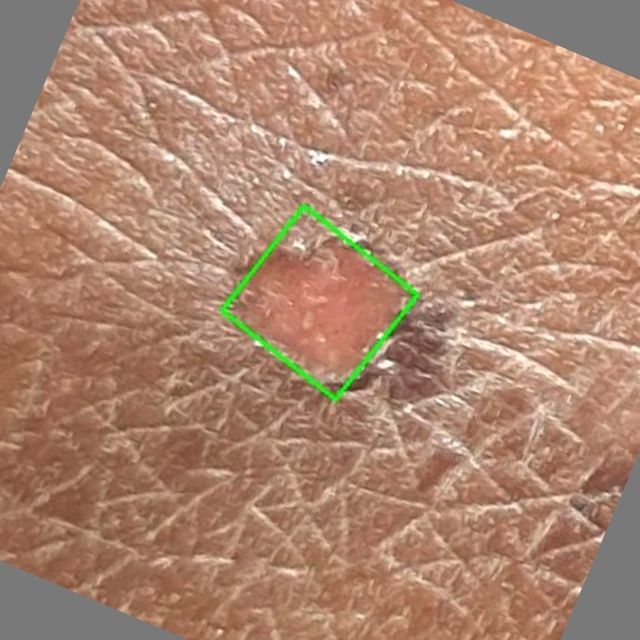Contact Dermatitis: (222, 205, 416, 397)
